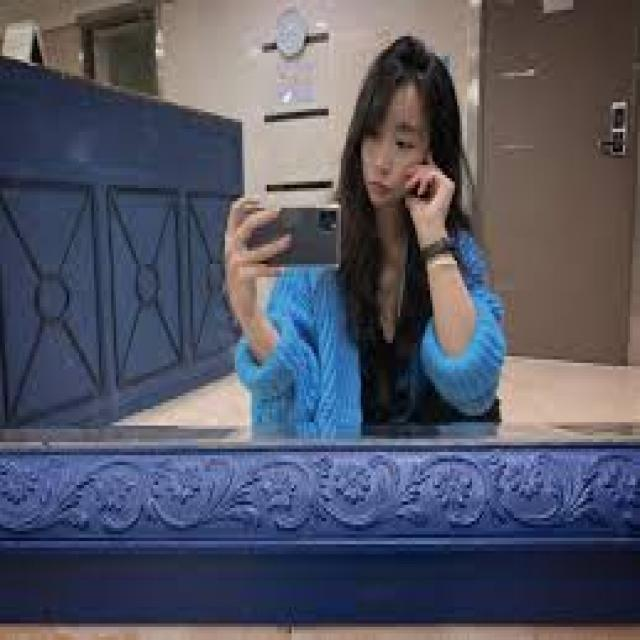Phone: (229, 201, 345, 270)
